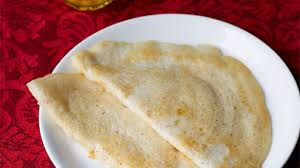dosa: (29, 32, 272, 168)
